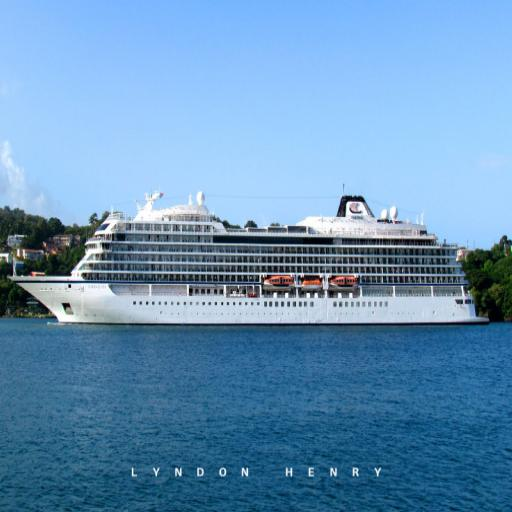cruises: (6, 186, 493, 332)
